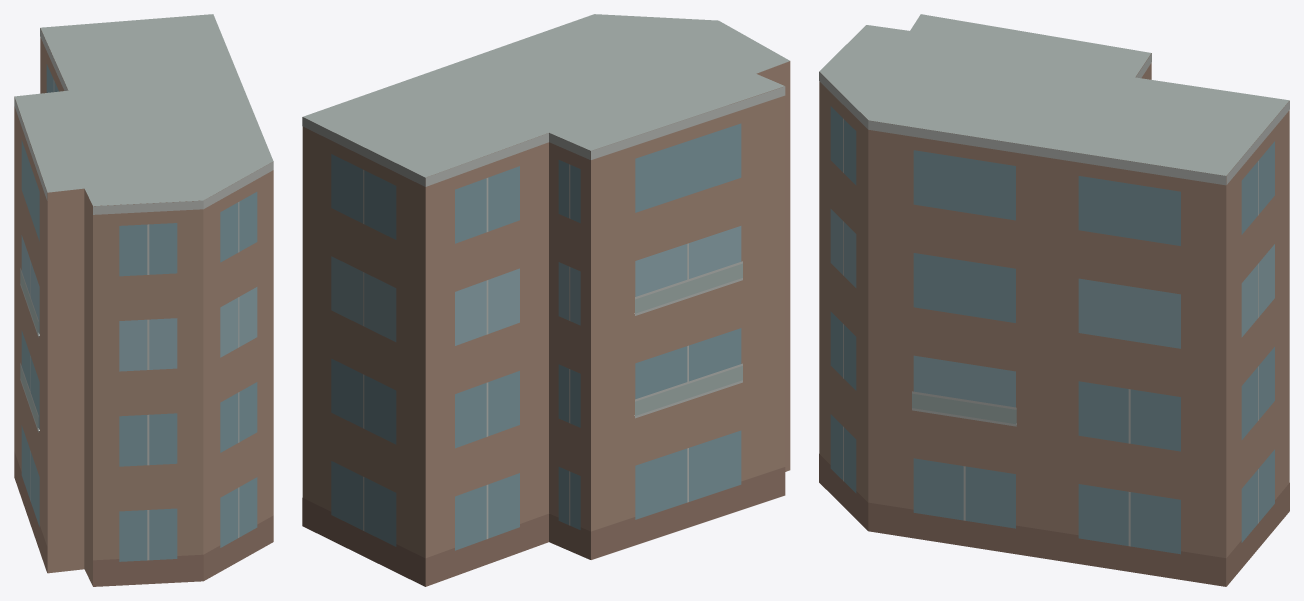
File: survey-upis-32720455.glb
3 renders of one model, left to right at view 1: azimuth 30°, elevation 25°; view 2: azimuth 150°, elevation 25°; view 3: azimuth 270°, elevation 25°, orthographic. The views are drawn at different scales.
Visible parts, largest first — view 1: survey-upis-32720455.tmp; view 2: survey-upis-32720455.tmp; view 3: survey-upis-32720455.tmp.
Boxes of the visible parts, x1,y1,x2,y2 form: survey-upis-32720455.tmp: [14, 14, 273, 586]; survey-upis-32720455.tmp: [302, 14, 790, 586]; survey-upis-32720455.tmp: [819, 14, 1289, 586].
Bounding box in the file's own units: 8.97 × 10.6 × 11.01.
